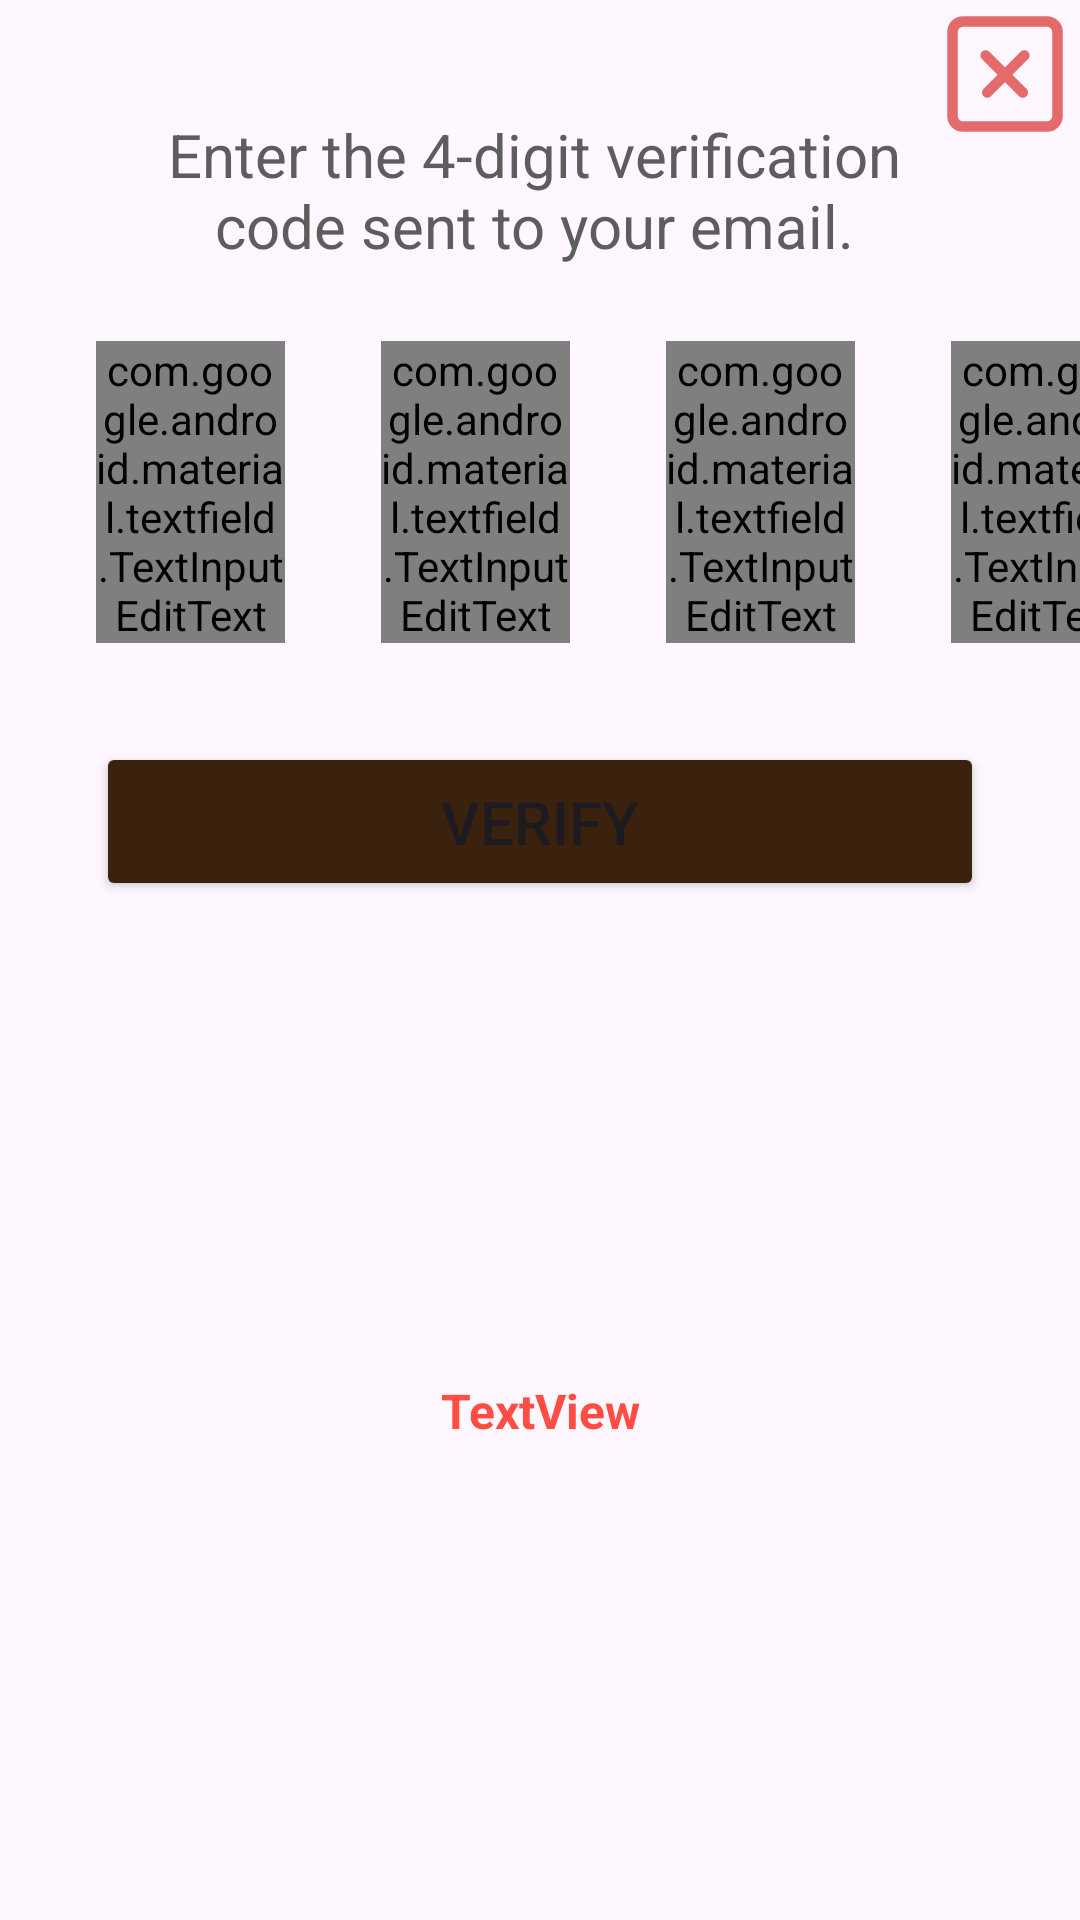

Point at icon controls on the screen. Image size 1080px x 1920px, points as (x=x, y=y).
close: (x=1005, y=74)
